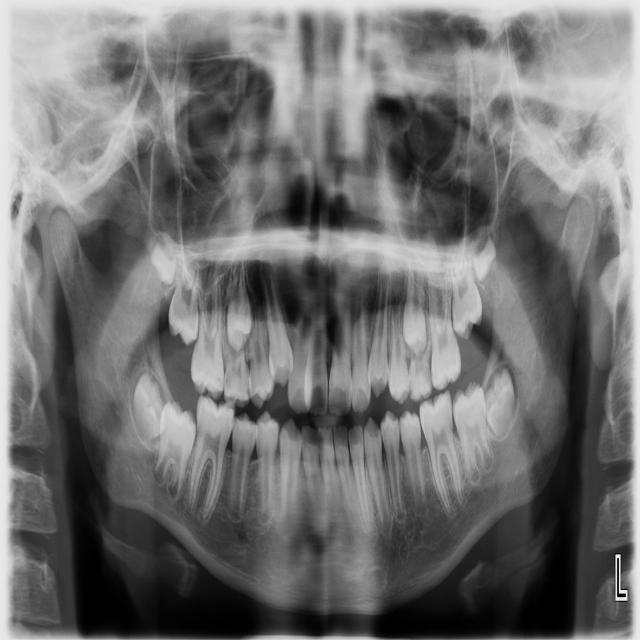mandibula: (47, 198, 591, 612)
